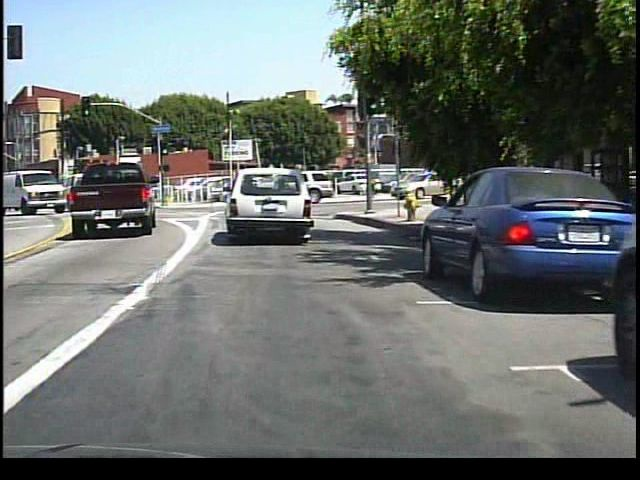person: (360, 166, 376, 200)
